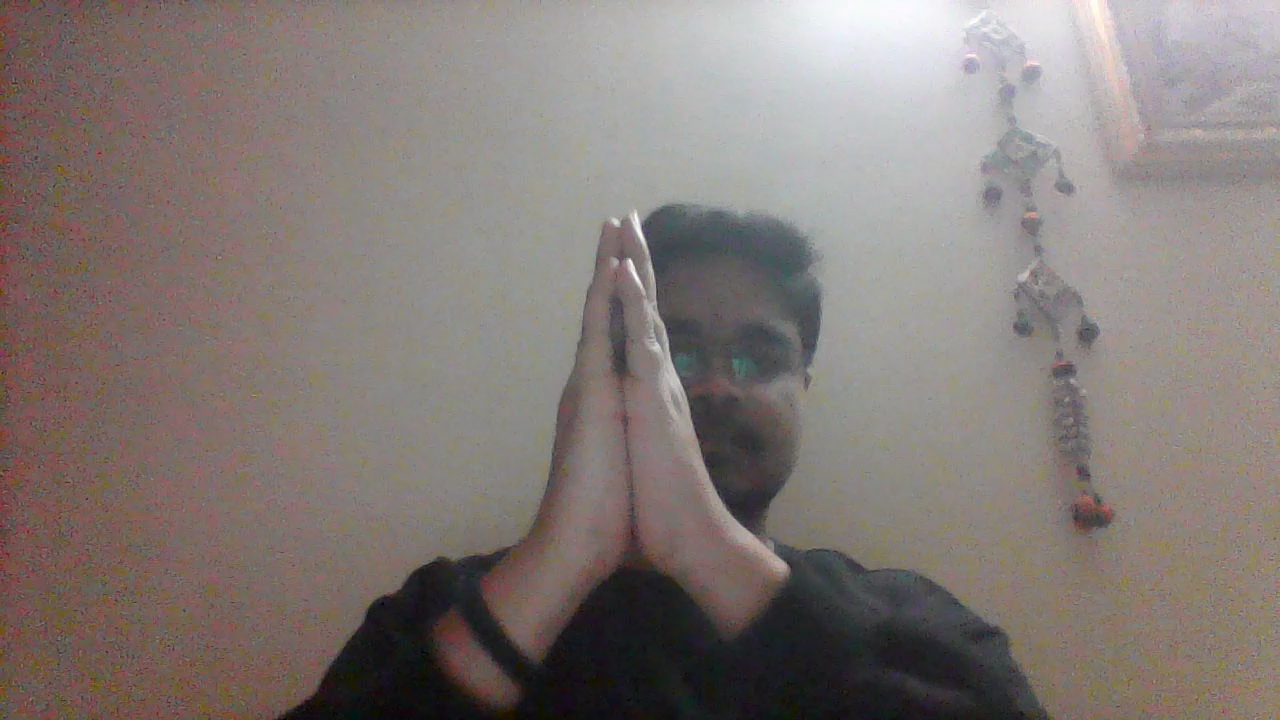Namaste: (512, 209, 743, 623)
